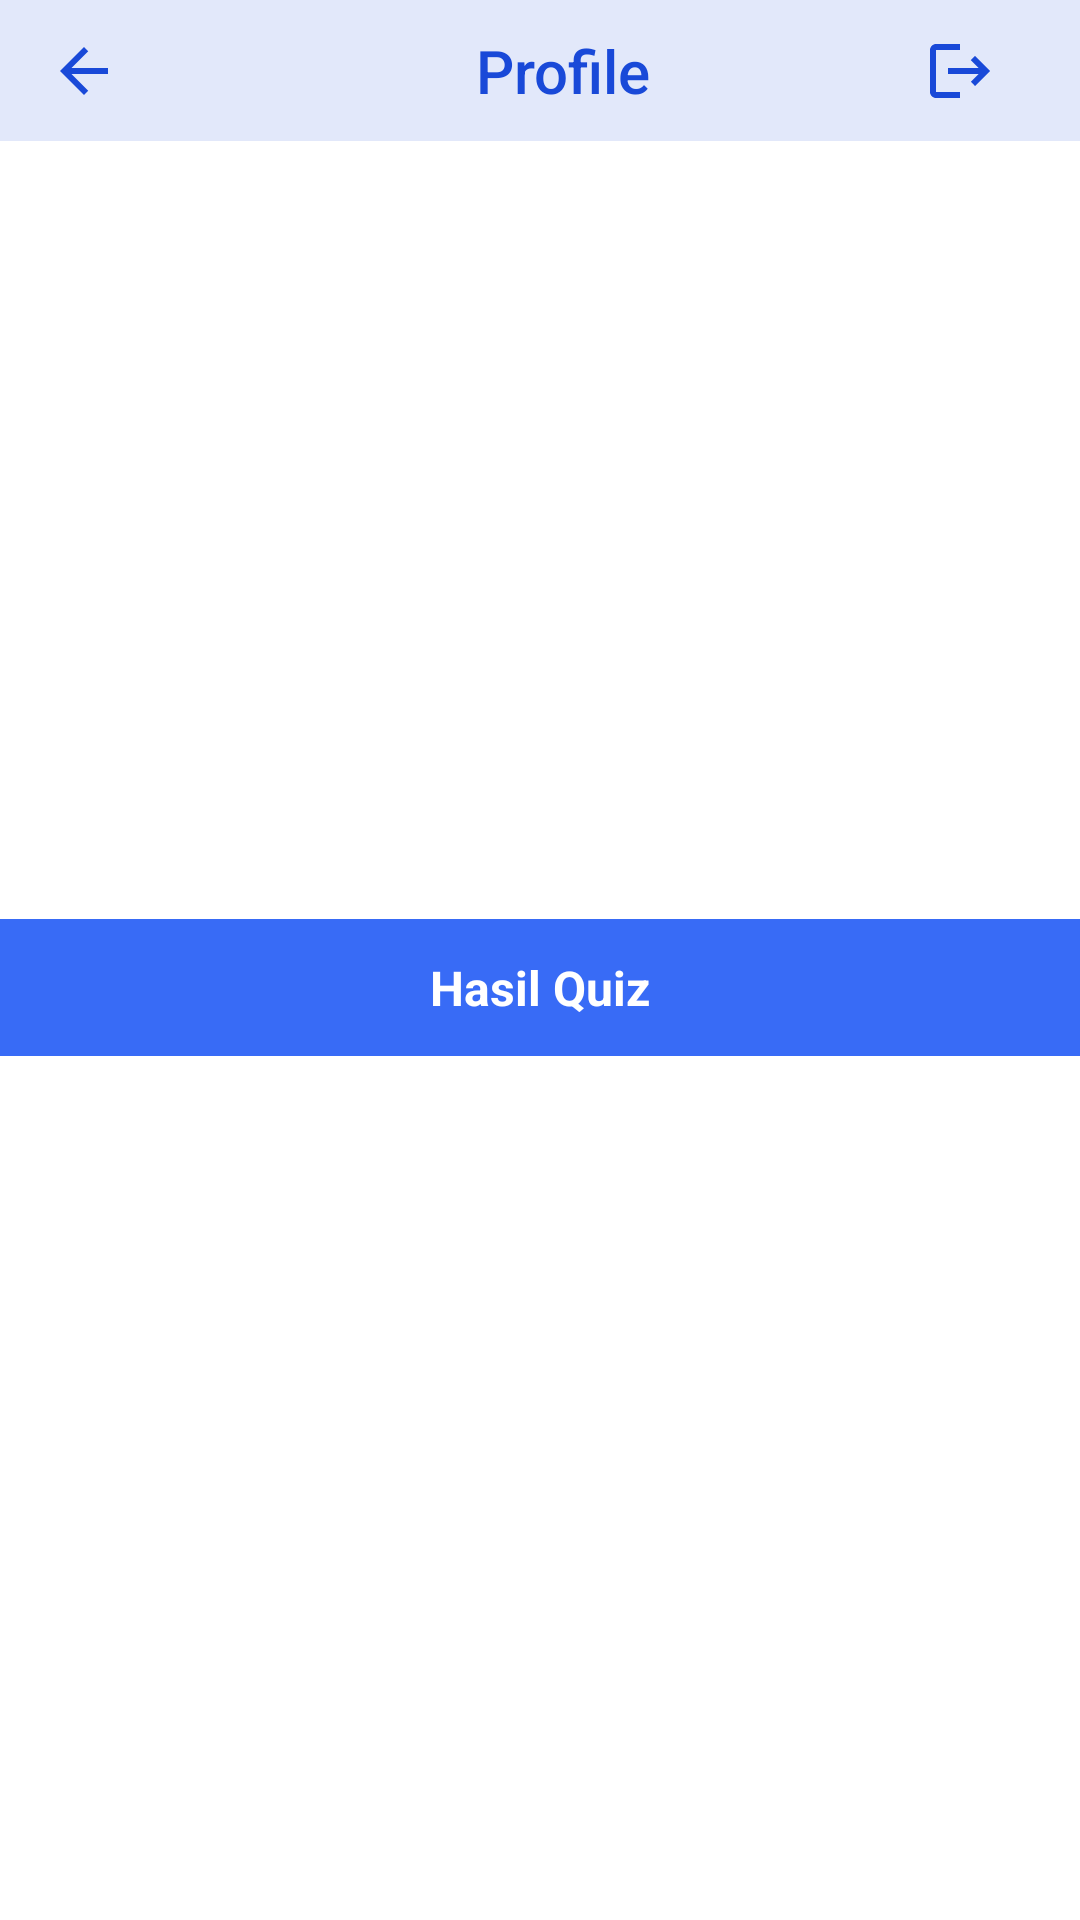

Locate icon controls on the screen. Image size 1080*1920, boxes as (x1, y1, x2, y2).
Back: (60, 47, 108, 95)
